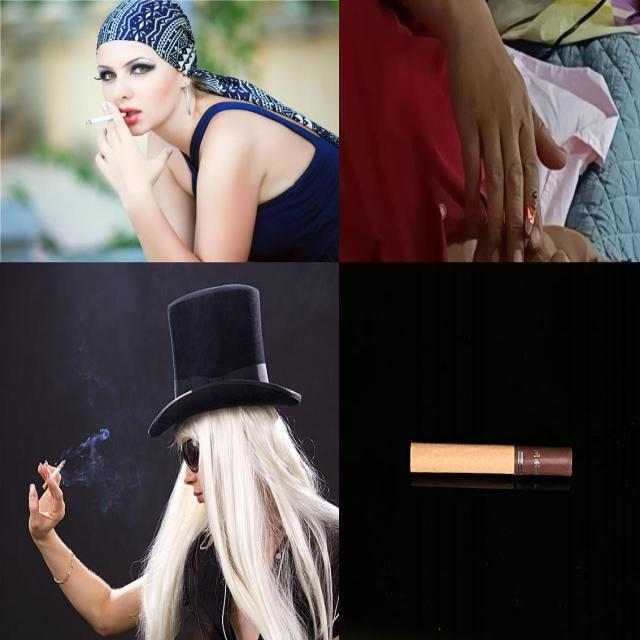smoking: (409, 442, 574, 479), (522, 190, 538, 253), (42, 458, 68, 490), (84, 112, 128, 125)
